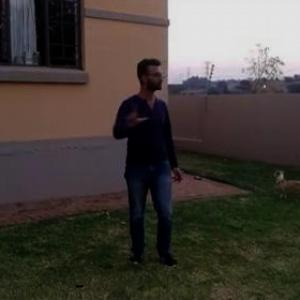land_hand: (118, 100, 148, 135)
